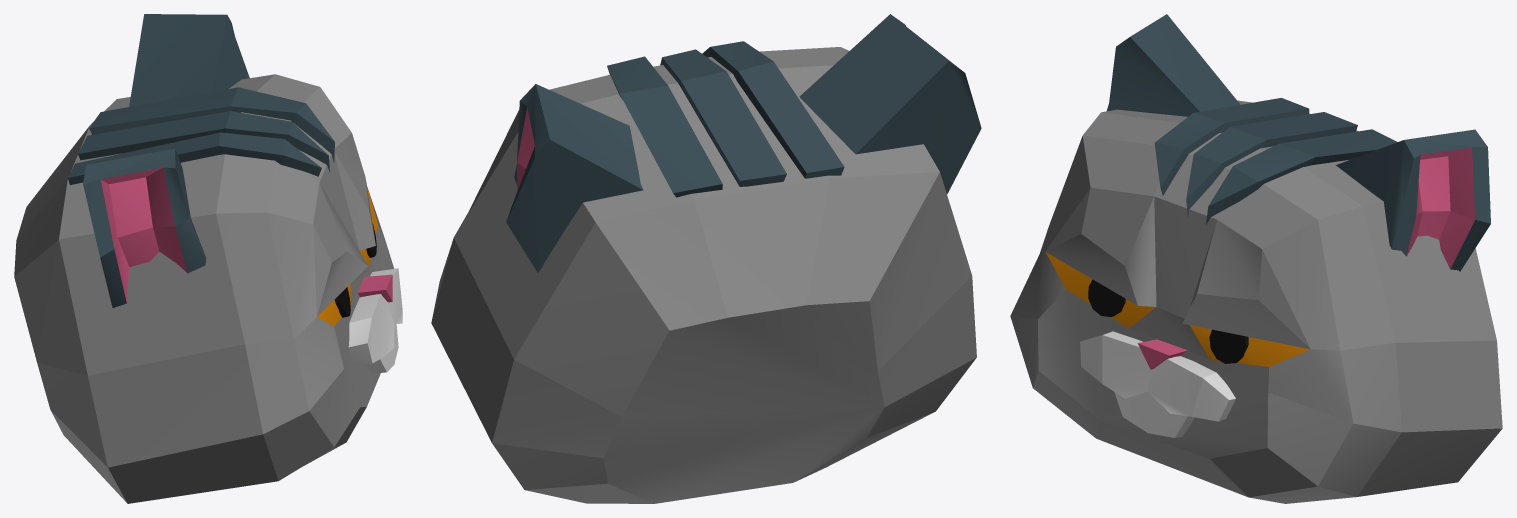
The picture shows the model from 3 angles, left to right: view 1: azimuth 30°, elevation 25°; view 2: azimuth 150°, elevation 25°; view 3: azimuth 270°, elevation 25°; orthographic projection. The views are drawn at different scales.
Visible parts, largest first — view 1: node_MeshObject-1344422912-PolyPaper21; view 2: node_MeshObject-1344422912-PolyPaper21; view 3: node_MeshObject-1344422912-PolyPaper21.
Part boxes in pixels (bbox=[...]): node_MeshObject-1344422912-PolyPaper21: bbox=[14, 14, 402, 503]; node_MeshObject-1344422912-PolyPaper21: bbox=[431, 14, 981, 503]; node_MeshObject-1344422912-PolyPaper21: bbox=[1010, 14, 1502, 503].
Bounding box in the file's own units: 0.2885 × 0.2714 × 0.315.
